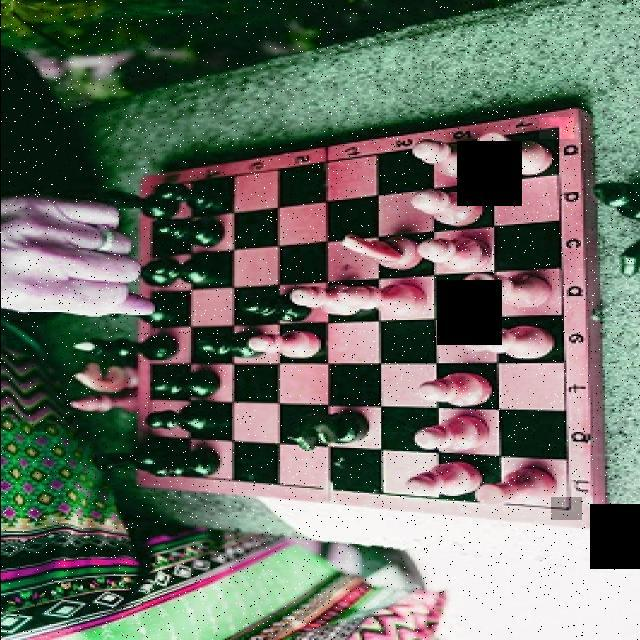chess-table-corners: (538, 117, 573, 139), (550, 497, 581, 520)
